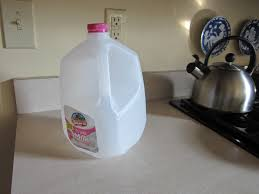milk: (61, 25, 146, 159)
